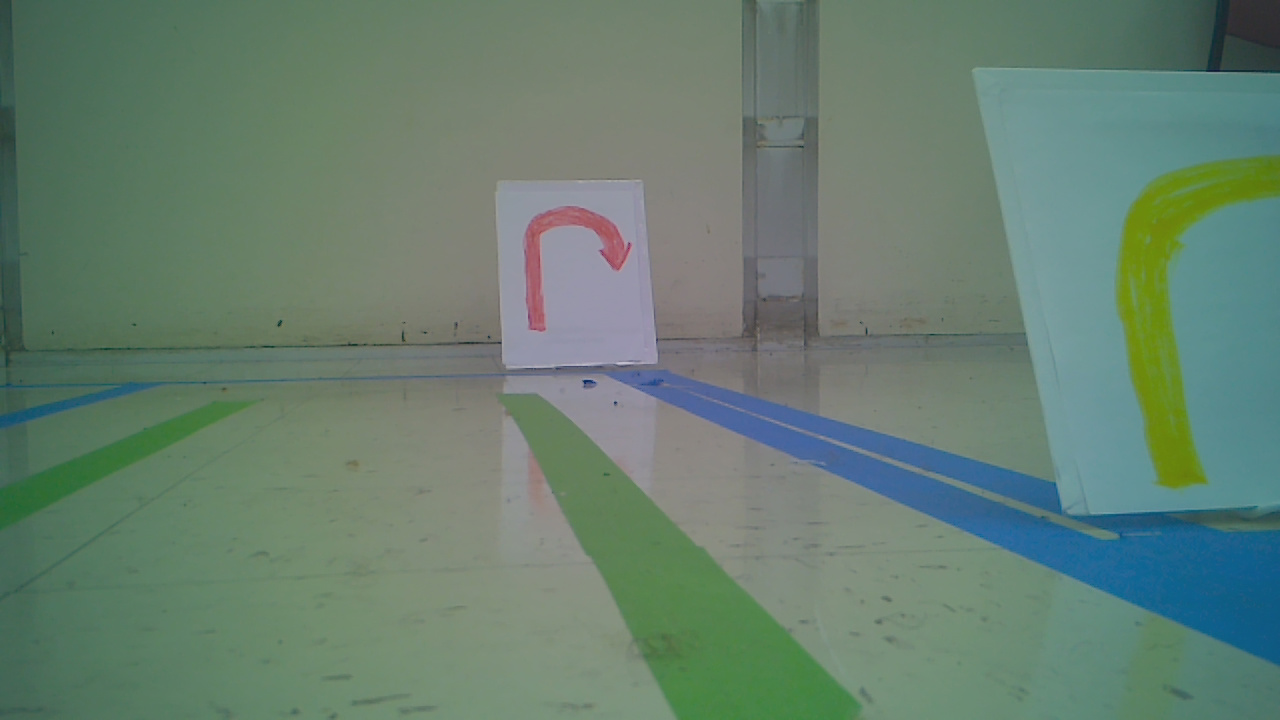greenline: (495, 400, 871, 718), (4, 398, 243, 531)
uturn: (514, 204, 636, 333)
